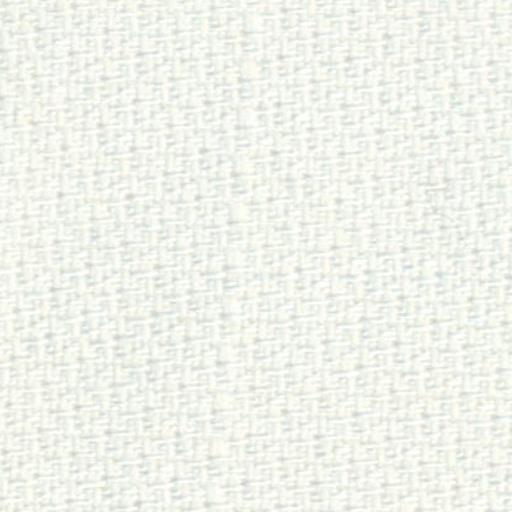TuoSha: (192, 21, 280, 499)
